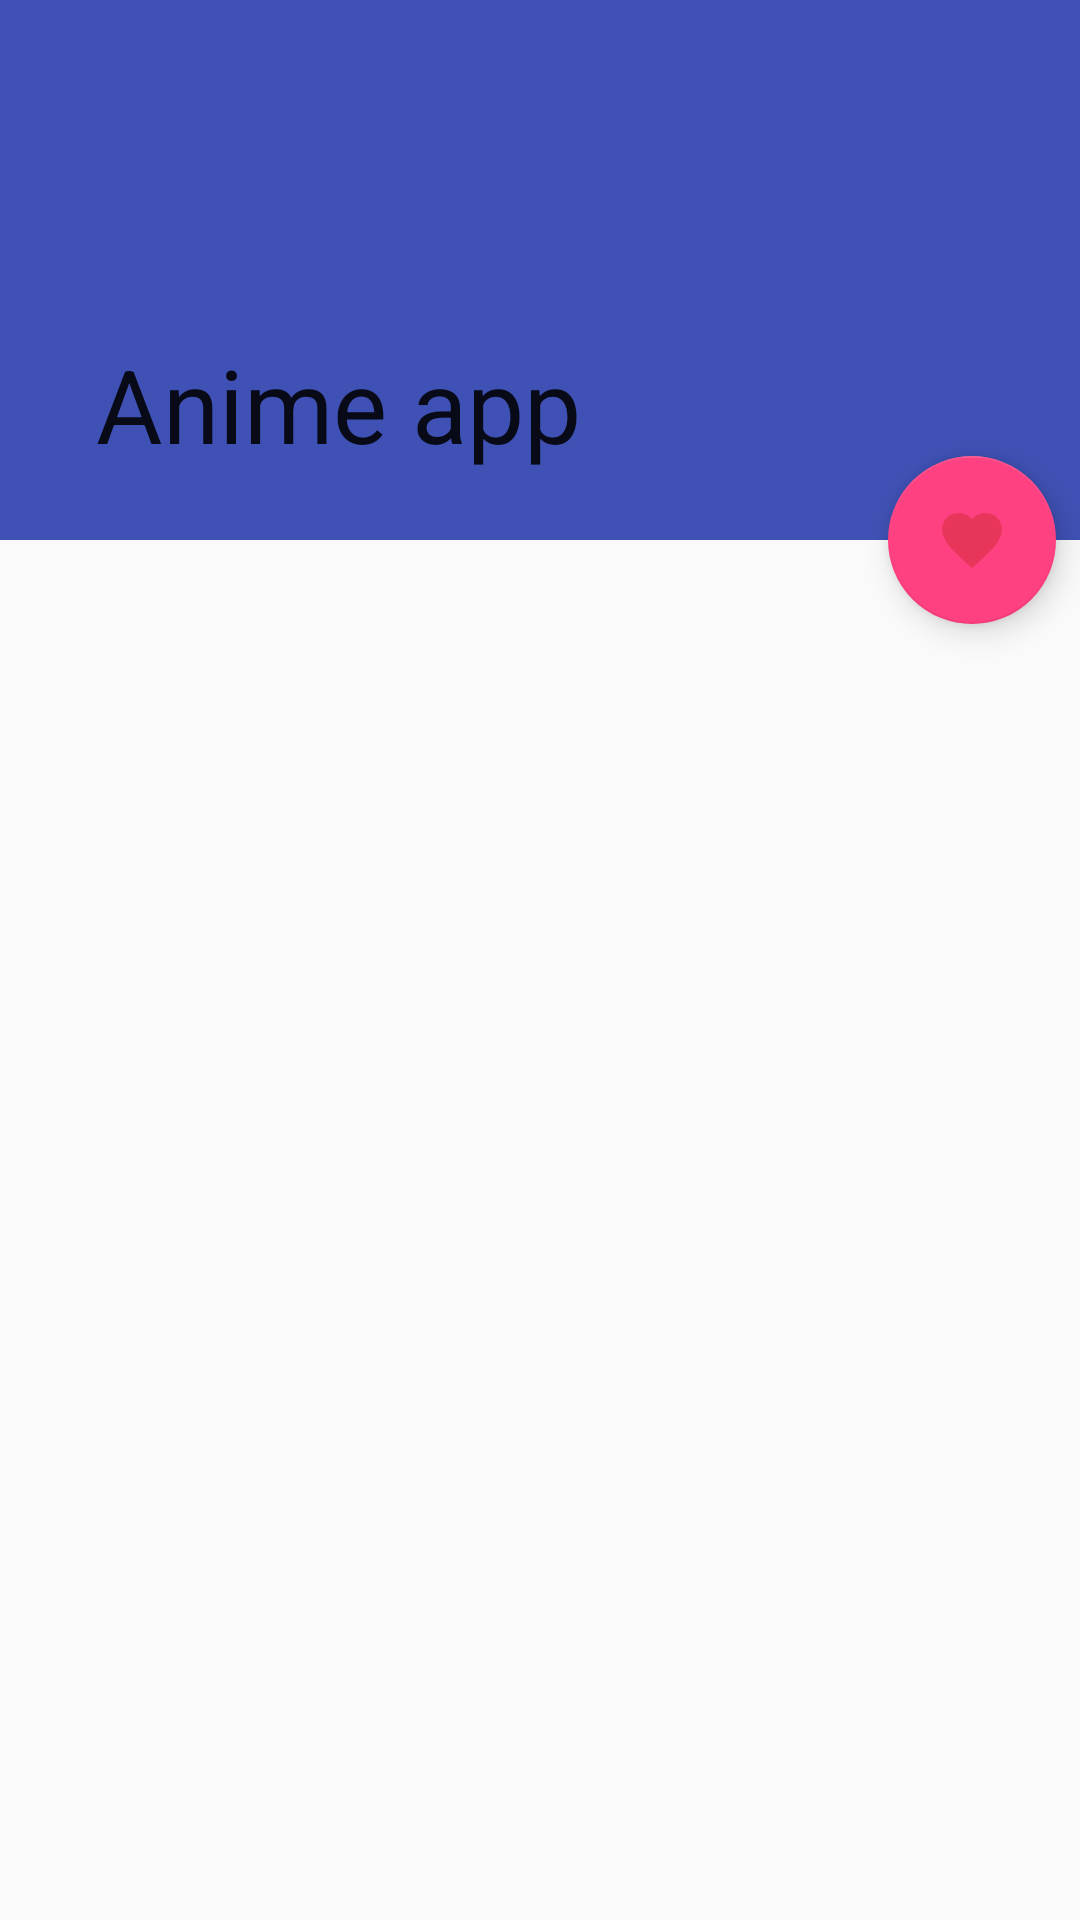

Point at icon controls on the screen. Image size 1080 x 1920, points as [x,y].
heart: [972,540]
